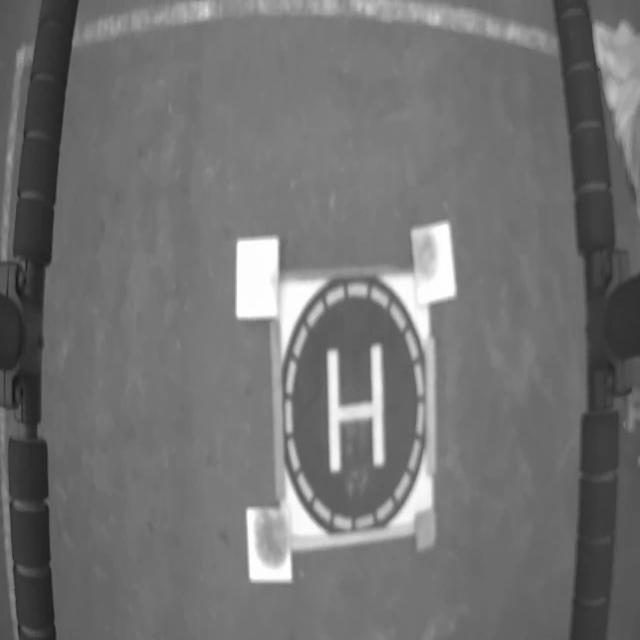Helipad: (327, 340, 388, 477)
